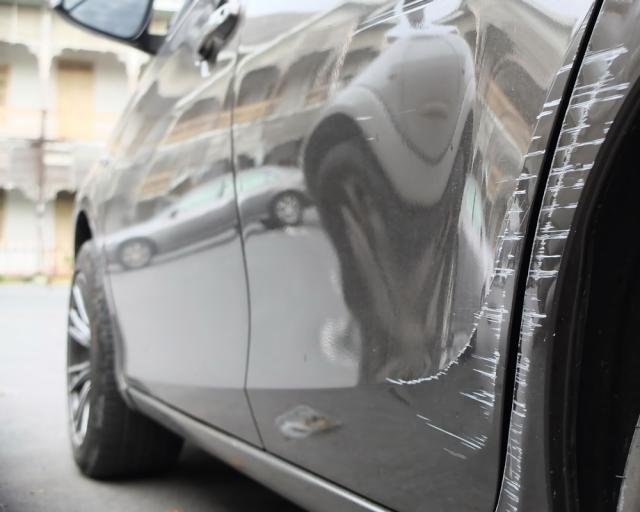scratch: (386, 43, 582, 466), (497, 39, 640, 512)
